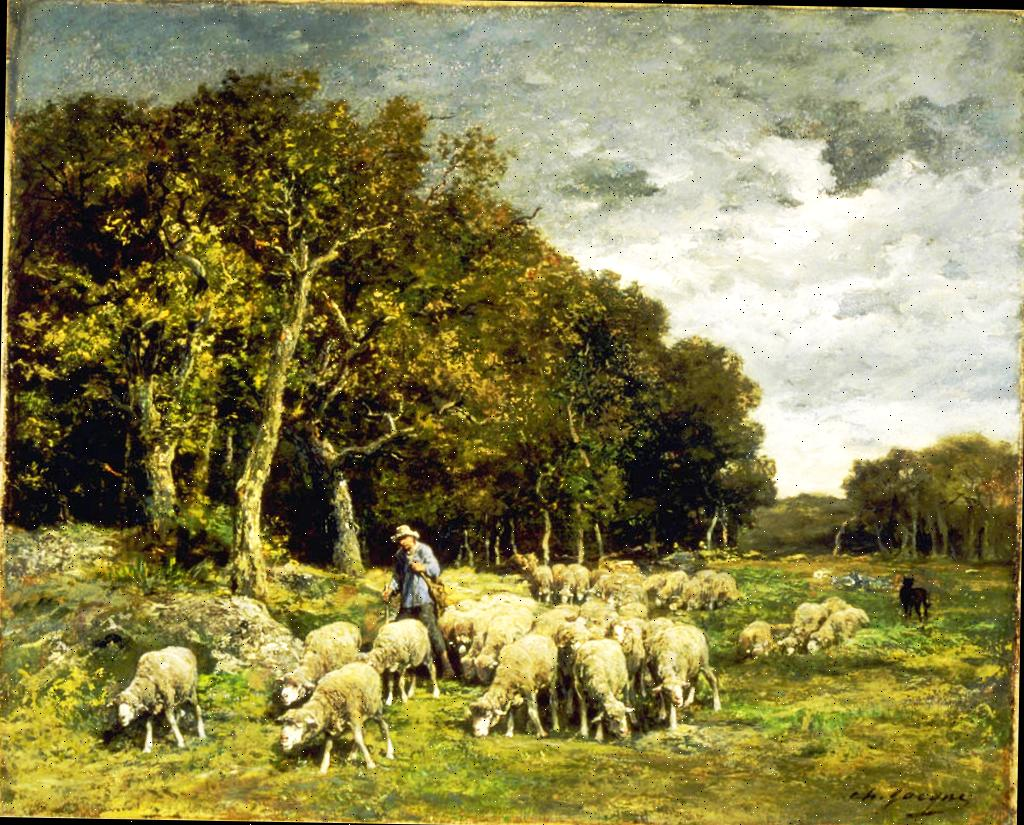Sheep: (272, 658, 392, 772), (111, 646, 202, 752), (470, 634, 560, 736), (640, 611, 714, 735), (272, 618, 362, 710), (362, 616, 440, 696), (574, 638, 634, 738), (475, 606, 534, 681), (441, 603, 499, 660), (808, 608, 868, 656)
